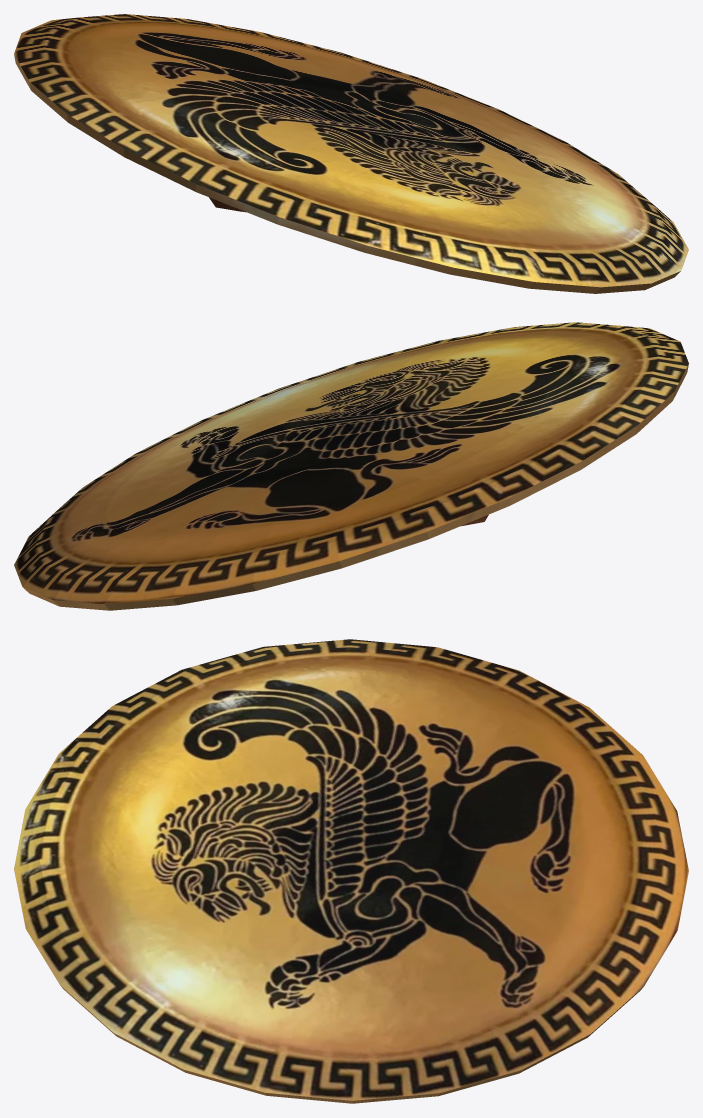
Rendered from shield.fbx.
3 views of the same model, one above another, from view 1: azimuth 30°, elevation 25°; view 2: azimuth 150°, elevation 25°; view 3: azimuth 270°, elevation 25° (orthographic). The views are drawn at different scales.
Parts seen in each view (by area): view 1: Shield; view 2: Shield; view 3: Shield.
Part boxes in pixels (box(x1,y1,x2,y2)): Shield: box(14, 14, 688, 293); Shield: box(14, 322, 688, 610); Shield: box(14, 639, 688, 1103).
Size of the model in its own units: 70.32 by 26.57 by 77.14.
